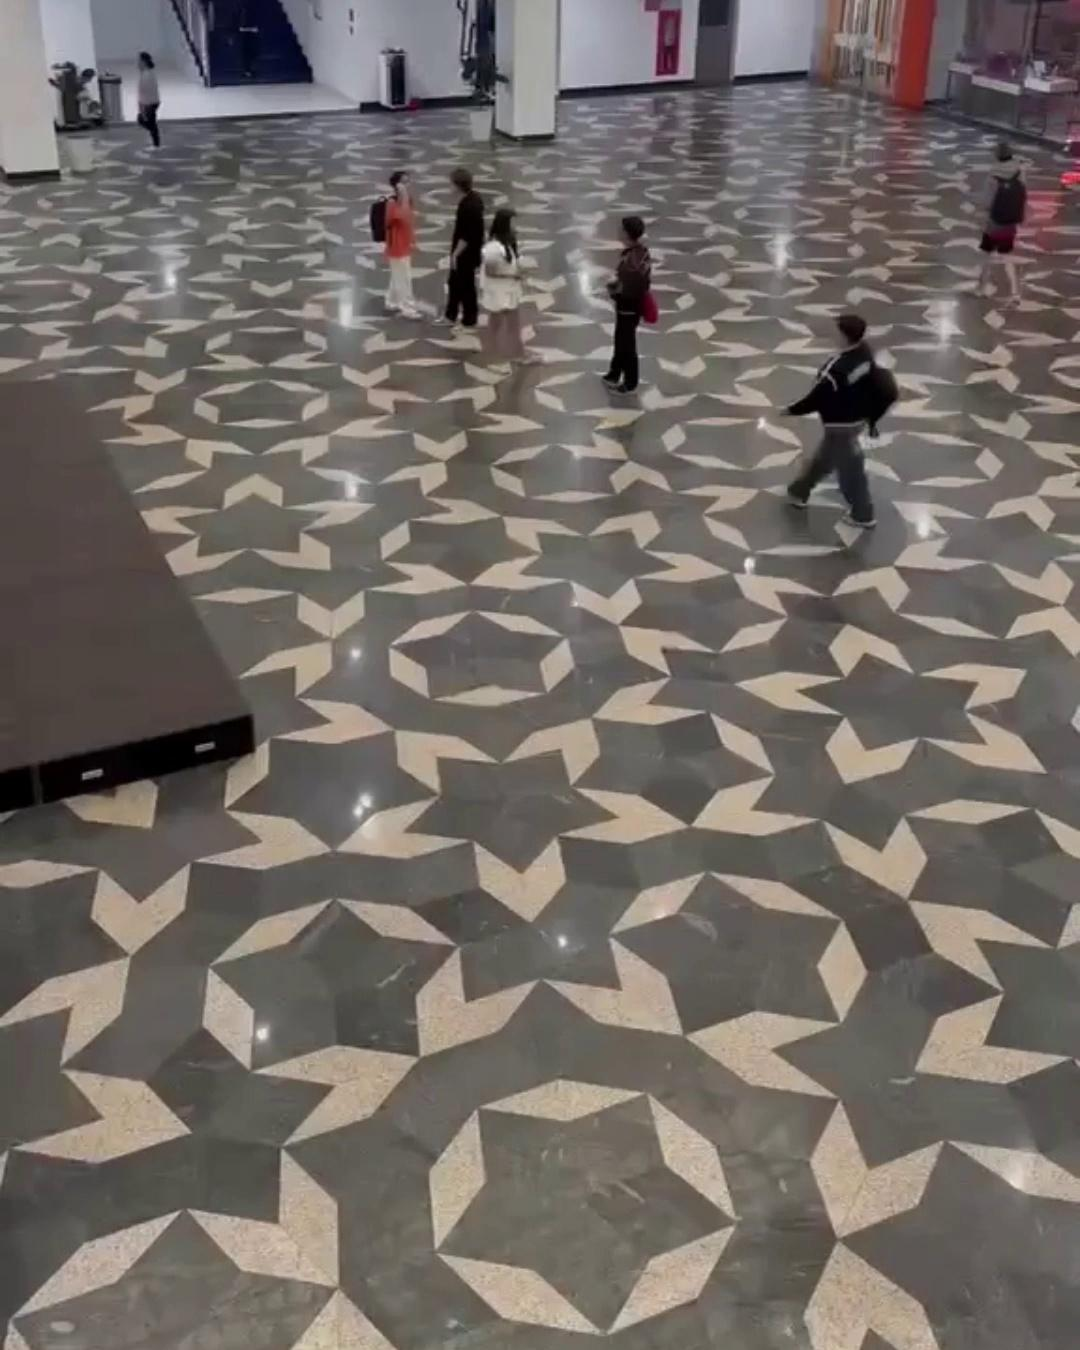your_class: (755, 283, 924, 553), (597, 188, 678, 420), (330, 161, 426, 335), (485, 213, 557, 445), (422, 140, 488, 342), (975, 108, 1038, 320), (95, 41, 194, 168), (215, 0, 282, 94)
